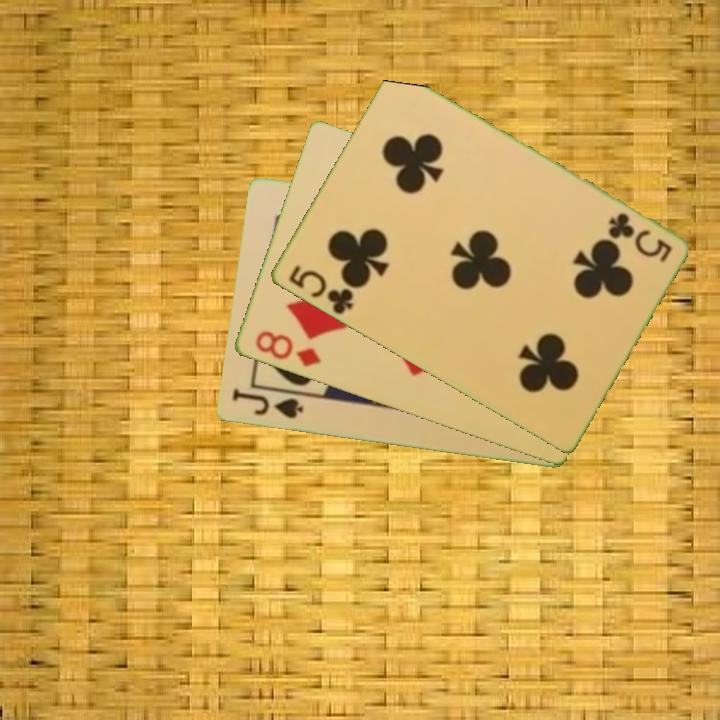5c: (284, 261, 356, 318), (604, 209, 674, 266)
8d: (251, 327, 323, 371)
Js: (228, 385, 306, 422)
